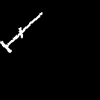double_crochet: (0, 13, 41, 51)
